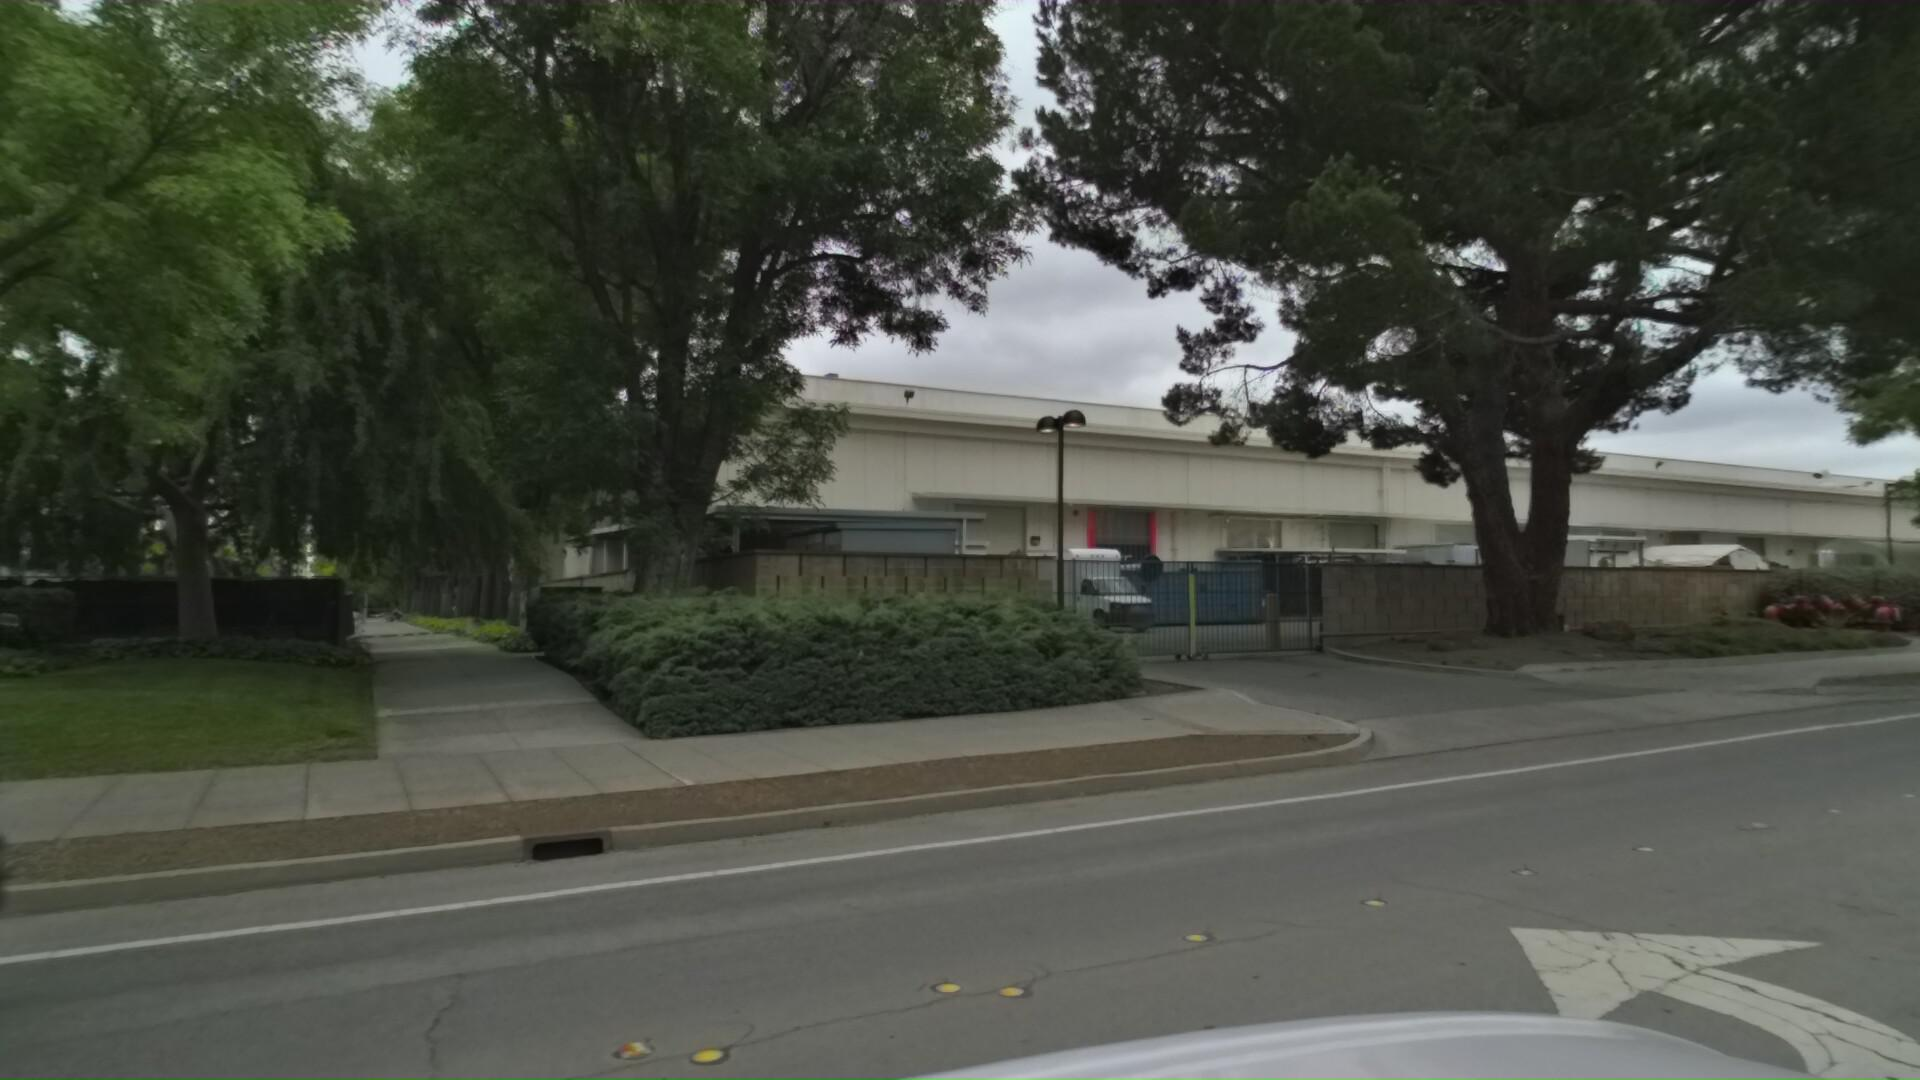truck: (998, 535, 1151, 632)
